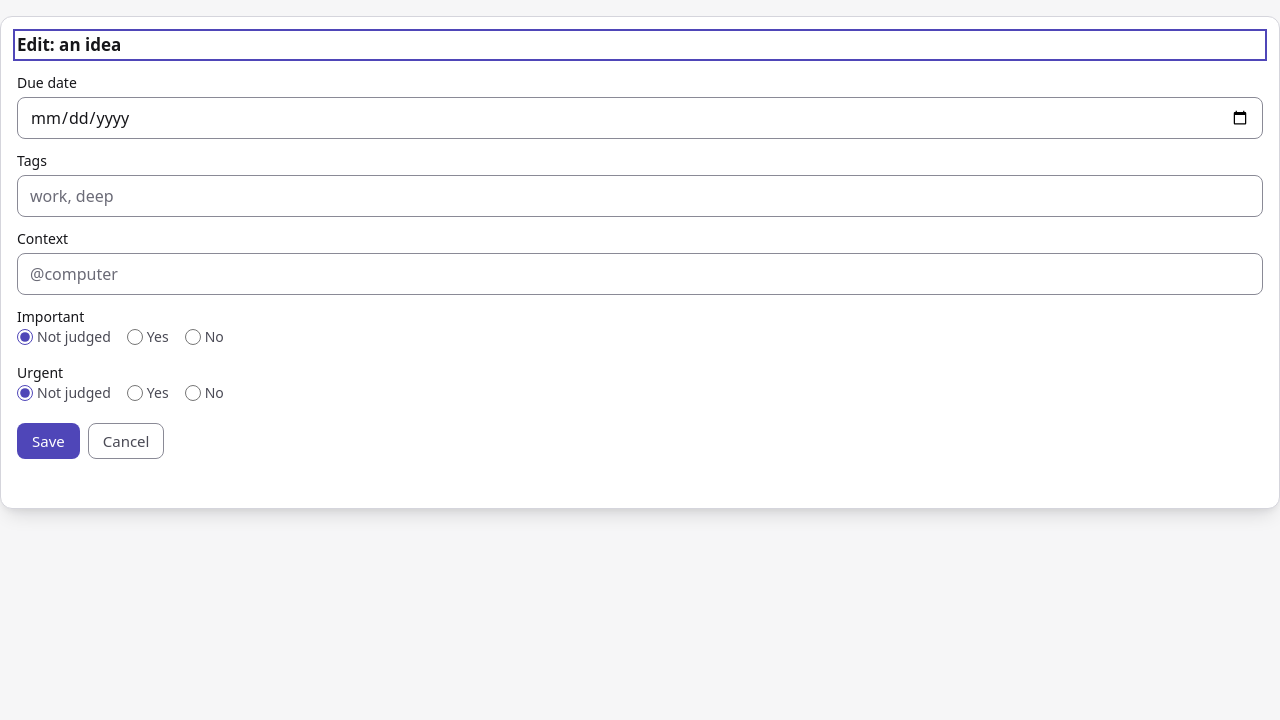
Test: the attributes editor (FR-011 + FR-013) › puts a validation error under the field it belongs to
Click the button "Save" at point(48, 441), box 17,423 -> 80,459
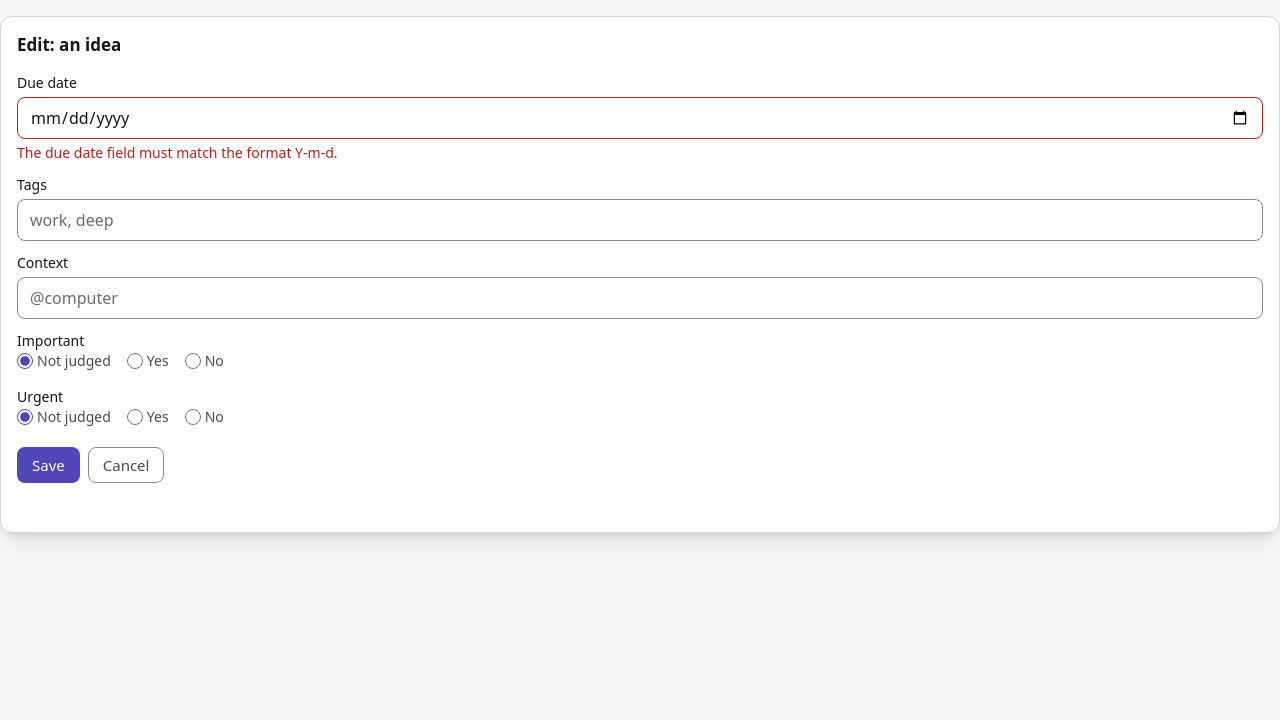
Now the text "The due date field must match the format Y-m-d." is shown, box 17,143 -> 338,162
